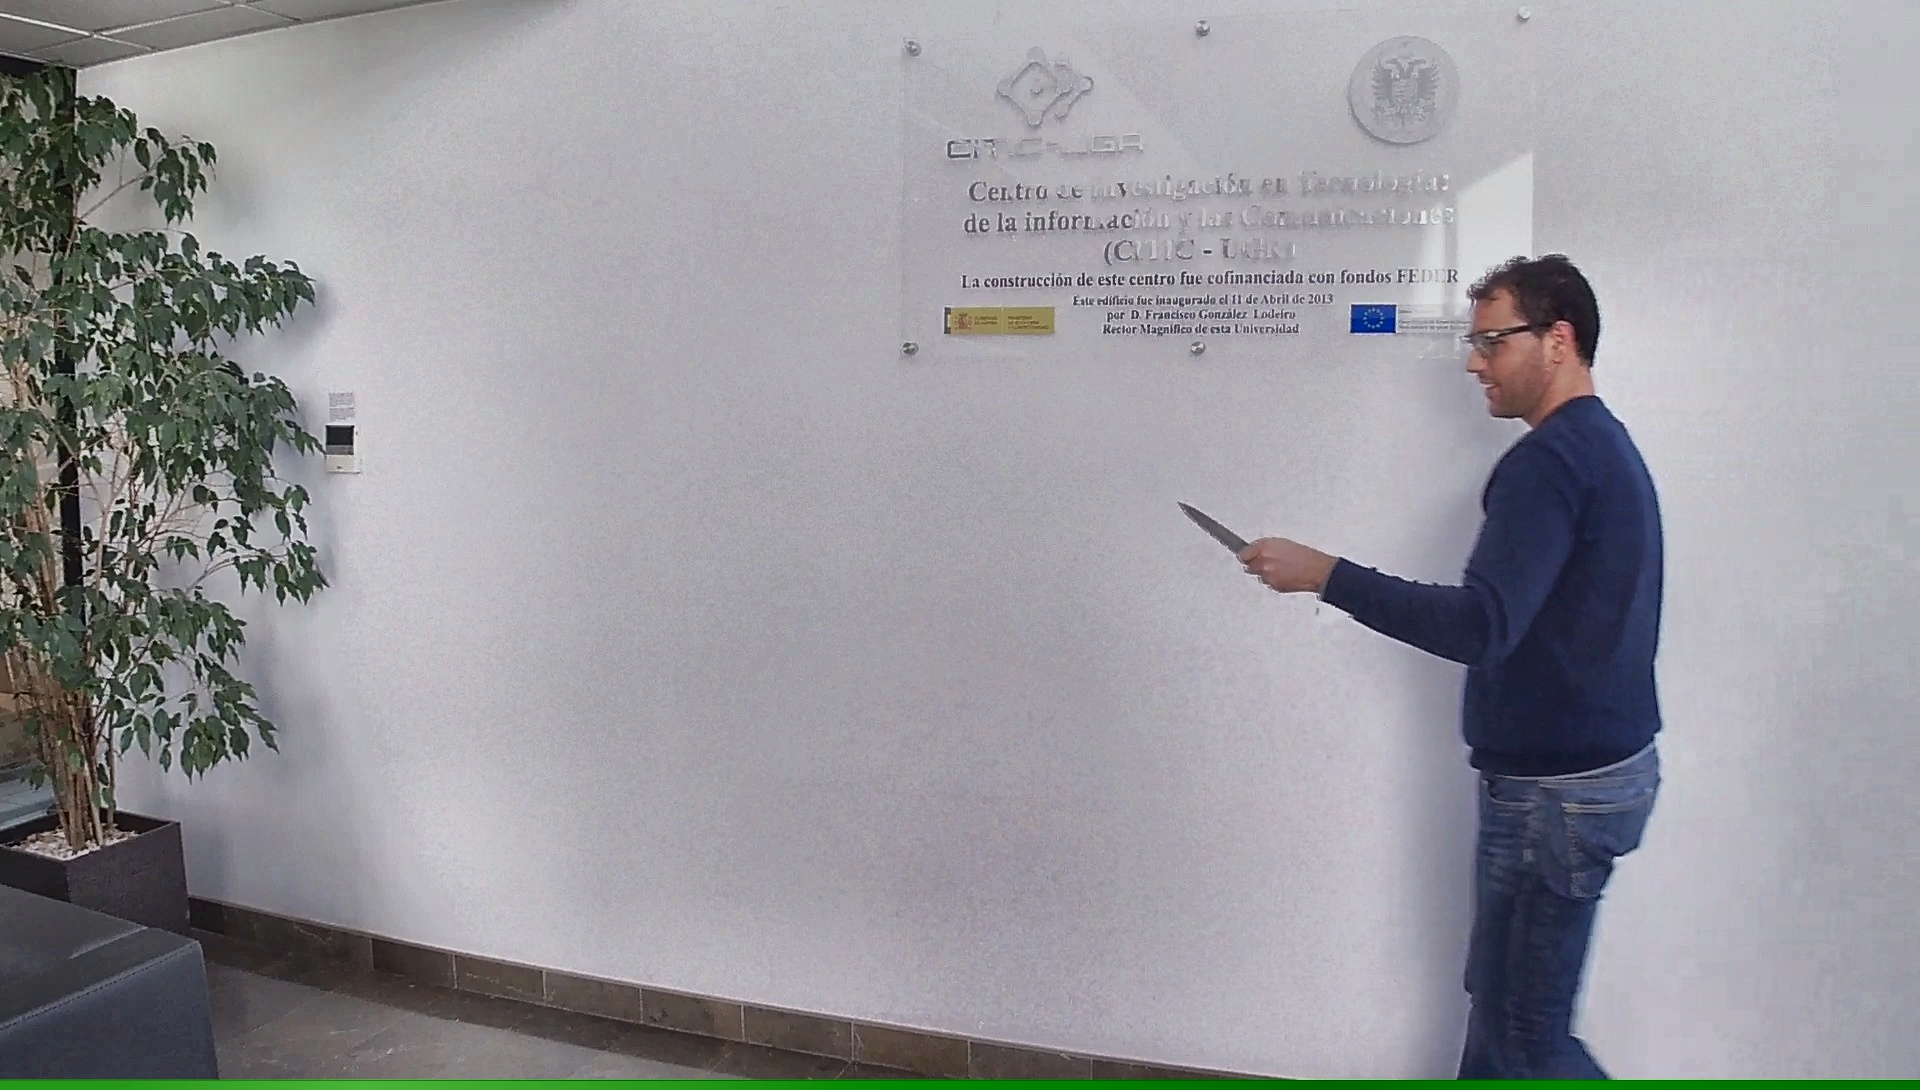knife: (1164, 492, 1290, 583)
